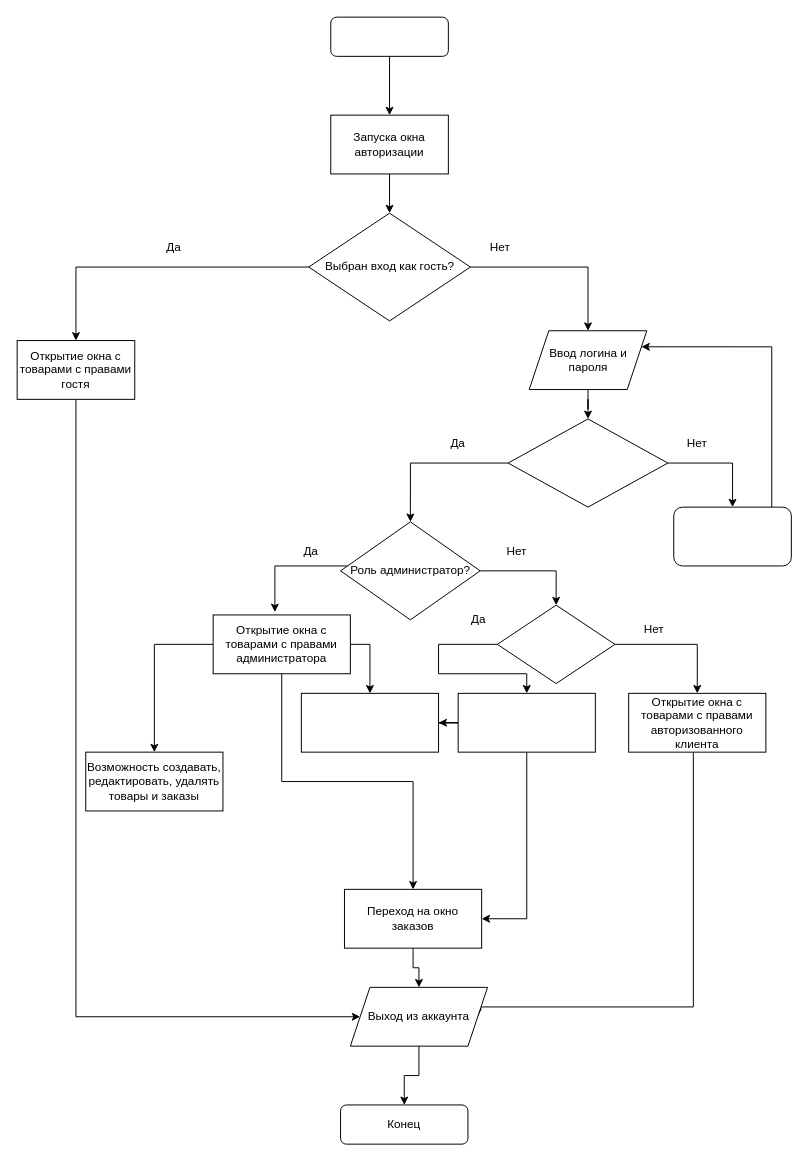
This 809x1161 diagram has some shape labels left out. Here are the shapes that lost their labels. From the top down, the centre of each, then its label:
the point at 389,36: Начало
the point at 587,462: Данные правильные?
the point at 732,536: Ошибка входа
the point at 555,644: Роль Менеджер?
the point at 369,722: Использование поиска, фильтрации, сортировки
the point at 526,722: Открытие окна с товарами с правами менеджера
